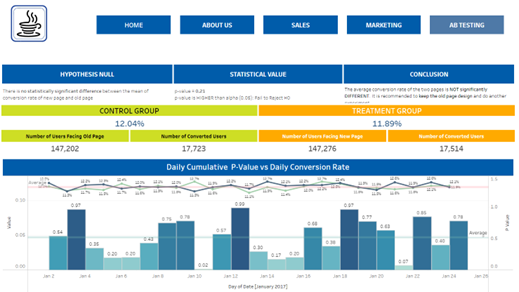

Layout of this report page (visuals, bound fields, positions):
{"tool":"tableau","page":{"name":"AB","canvas":[1366,768],"ordinal":0},"visuals":[{"type":"image","param":"C:/Users/artanggoro/Downloads/PACMANN PLBI 2 - JAVA TEAM ECOMMERCE.twb Files/Ima","box":[0,0,1366,768]},{"type":"dashboard-object","box":[250,33,216,72]},{"type":"dashboard-object","box":[466,33,216,72]},{"type":"dashboard-object","box":[682,33,216,72]},{"type":"dashboard-object","box":[898,33,215,72]},{"type":"dashboard-object","box":[1113,33,215,72]},{"type":"text","box":[15,170,445,53]},{"type":"text","box":[460,170,440,53]},{"type":"text","box":[900,170,445,53]},{"type":"text","box":[15,223,445,53]},{"type":"text","box":[460,223,440,53]},{"type":"text","box":[900,223,445,53]},{"type":"text","box":[15,276,663,29]},{"type":"text","box":[682,276,663,29]},{"type":"worksheet","title":"AB. CVR AB Test","mark":"Automatic","cols":["group"],"box":[15,305,663,37]},{"type":"worksheet","title":"AB. CVR AB Test (2)","mark":"Automatic","cols":["group"],"box":[682,305,663,37]},{"type":"worksheet","title":"AB. #User Old","mark":"Automatic","box":[15,342,332,70]},{"type":"worksheet","title":"AB. #User Old CONV","mark":"Automatic","box":[347,342,331,70]},{"type":"worksheet","title":"AB. #User New","mark":"Automatic","box":[682,342,332,70]},{"type":"worksheet","title":"AB. #User New CONV","mark":"Automatic","box":[1014,342,331,70]},{"type":"legend","title":"AB. Daily Cummulative PValue","param":"[federated.0s9wdmw1vpx6jv17ez4uc1nwiog2].[:Measure Names]","box":[1159.4,394.2,124.6,49.5]},{"type":"worksheet","title":"AB. Daily Cummulative PValue","mark":"Line","rows":["p_value"],"cols":["date"],"box":[15,412,1330,353]}]}

Visuals, with their boxes in screenshot pixels (x1, y1, x2, y2), scaled from the page's 1366x768 canvas onto the 519x292 screenshot:
image: x1=0 y1=0 x2=518 y2=291
dashboard-object: x1=95 y1=13 x2=177 y2=40
dashboard-object: x1=177 y1=13 x2=259 y2=40
dashboard-object: x1=259 y1=13 x2=341 y2=40
dashboard-object: x1=341 y1=13 x2=423 y2=40
dashboard-object: x1=423 y1=13 x2=505 y2=40
text: x1=6 y1=65 x2=175 y2=85
text: x1=175 y1=65 x2=342 y2=85
text: x1=342 y1=65 x2=511 y2=85
text: x1=6 y1=85 x2=175 y2=105
text: x1=175 y1=85 x2=342 y2=105
text: x1=342 y1=85 x2=511 y2=105
text: x1=6 y1=105 x2=258 y2=116
text: x1=259 y1=105 x2=511 y2=116
"AB. CVR AB Test" worksheet: x1=6 y1=116 x2=258 y2=130
"AB. CVR AB Test (2)" worksheet: x1=259 y1=116 x2=511 y2=130
"AB. #User Old" worksheet: x1=6 y1=130 x2=132 y2=157
"AB. #User Old CONV" worksheet: x1=132 y1=130 x2=258 y2=157
"AB. #User New" worksheet: x1=259 y1=130 x2=385 y2=157
"AB. #User New CONV" worksheet: x1=385 y1=130 x2=511 y2=157
"AB. Daily Cummulative PValue" legend: x1=441 y1=150 x2=488 y2=169
"AB. Daily Cummulative PValue" worksheet (Line marks): x1=6 y1=157 x2=511 y2=291
